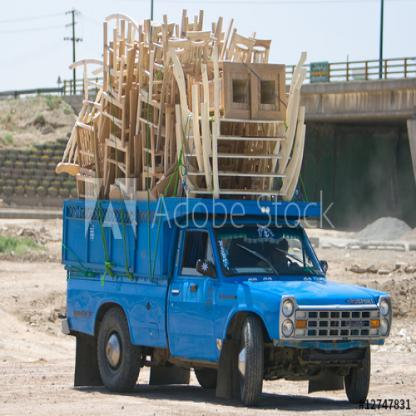overloaded-truck: (54, 1, 331, 192)
